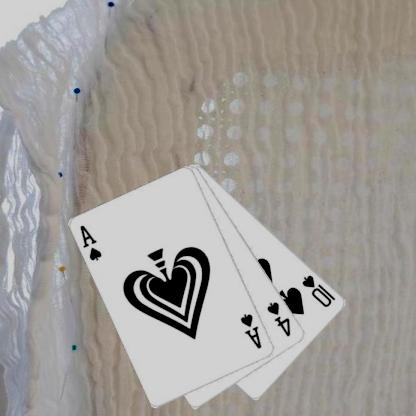10S: (300, 272, 338, 309)
4S: (264, 299, 292, 338)
AS: (77, 222, 104, 262), (238, 311, 263, 350)
